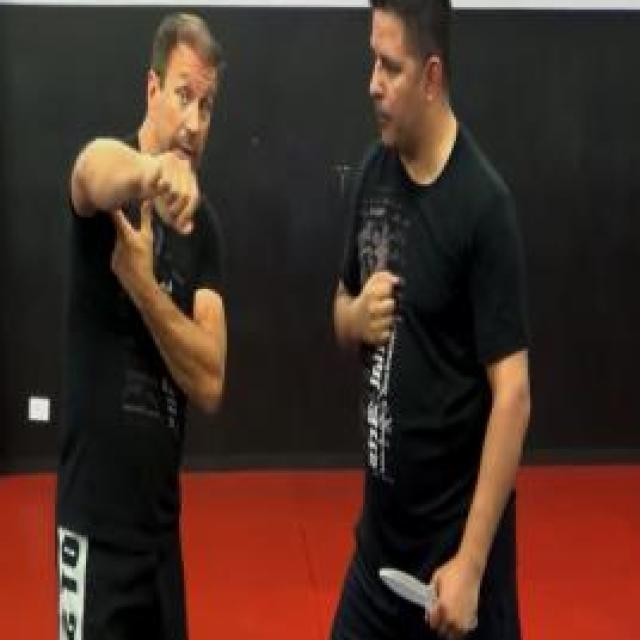knife: (372, 554, 482, 638)
